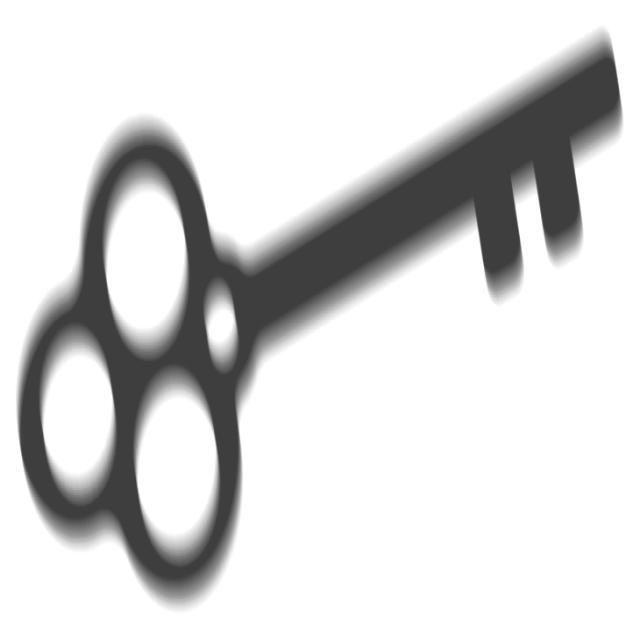key: (2, 12, 636, 625)
